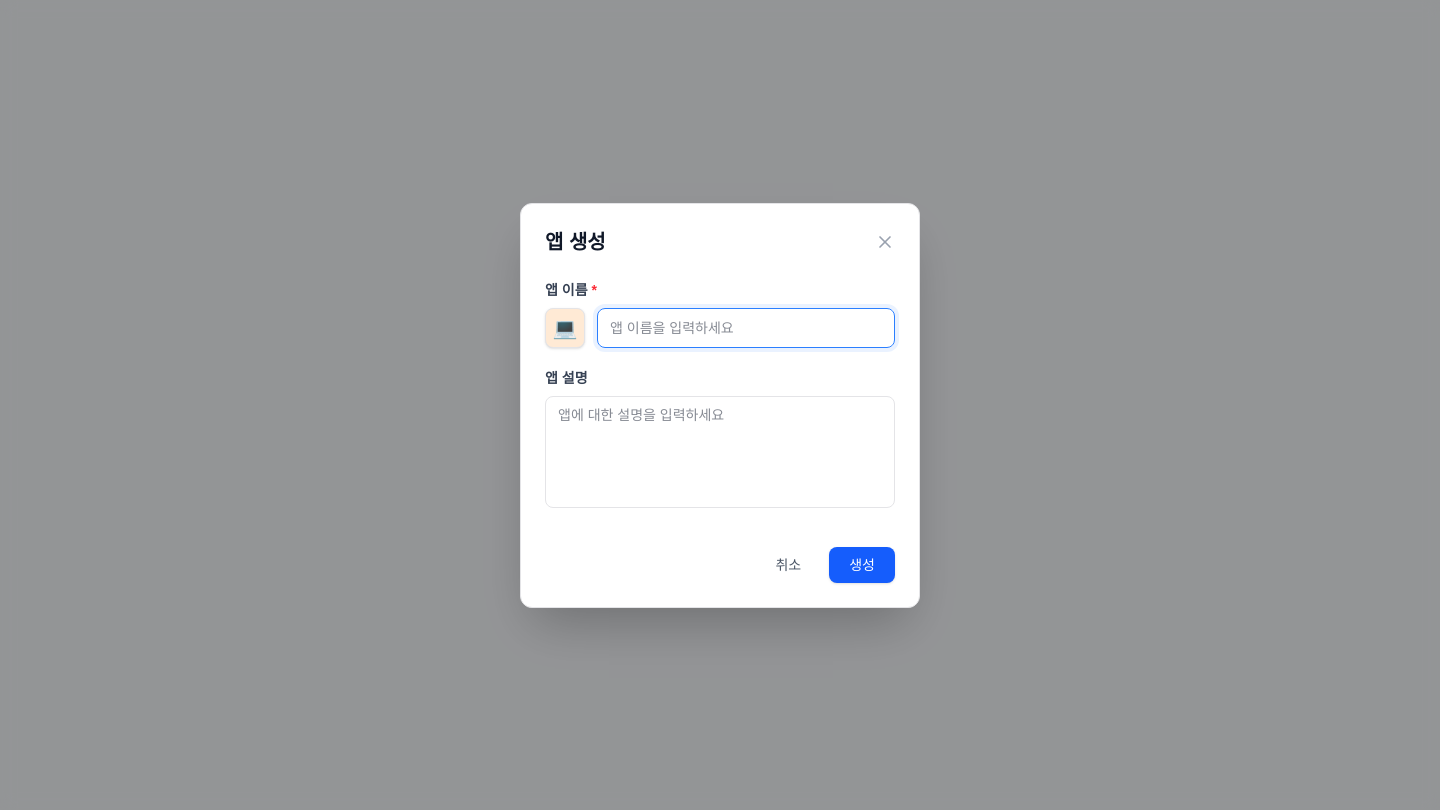
Test: CreateAppModal 권한 신청 연결 › 이미 권한 보유 409는 보유 안내를 표시한다 (ORG-TC-E012)
Step 1. Type "온보딩 봇" into the field with placeholder "앱 이름을 입력하세요" → (746, 328), box [597,308,895,348]
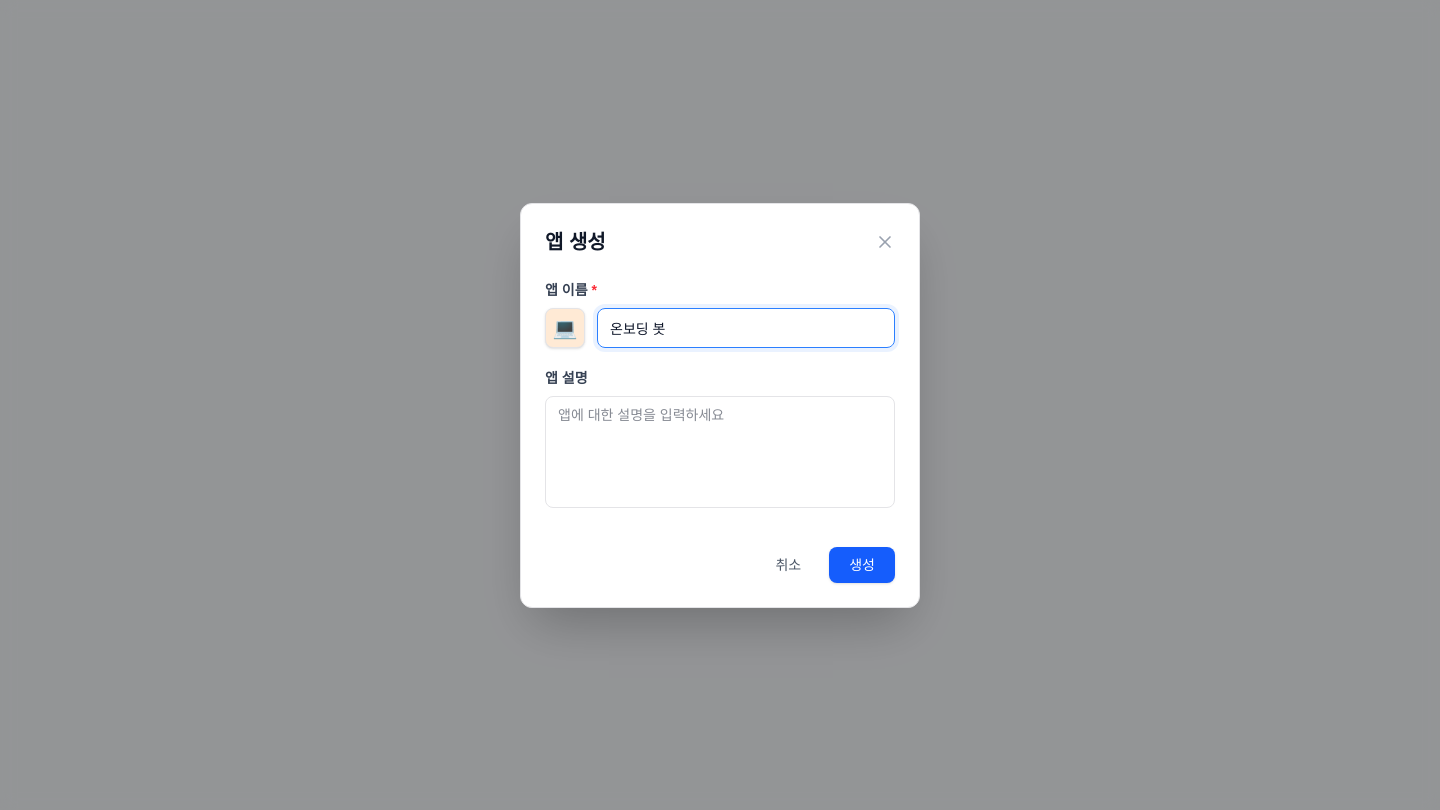
Step 2. Click the button "생성" → (862, 564), box [829,546,895,582]
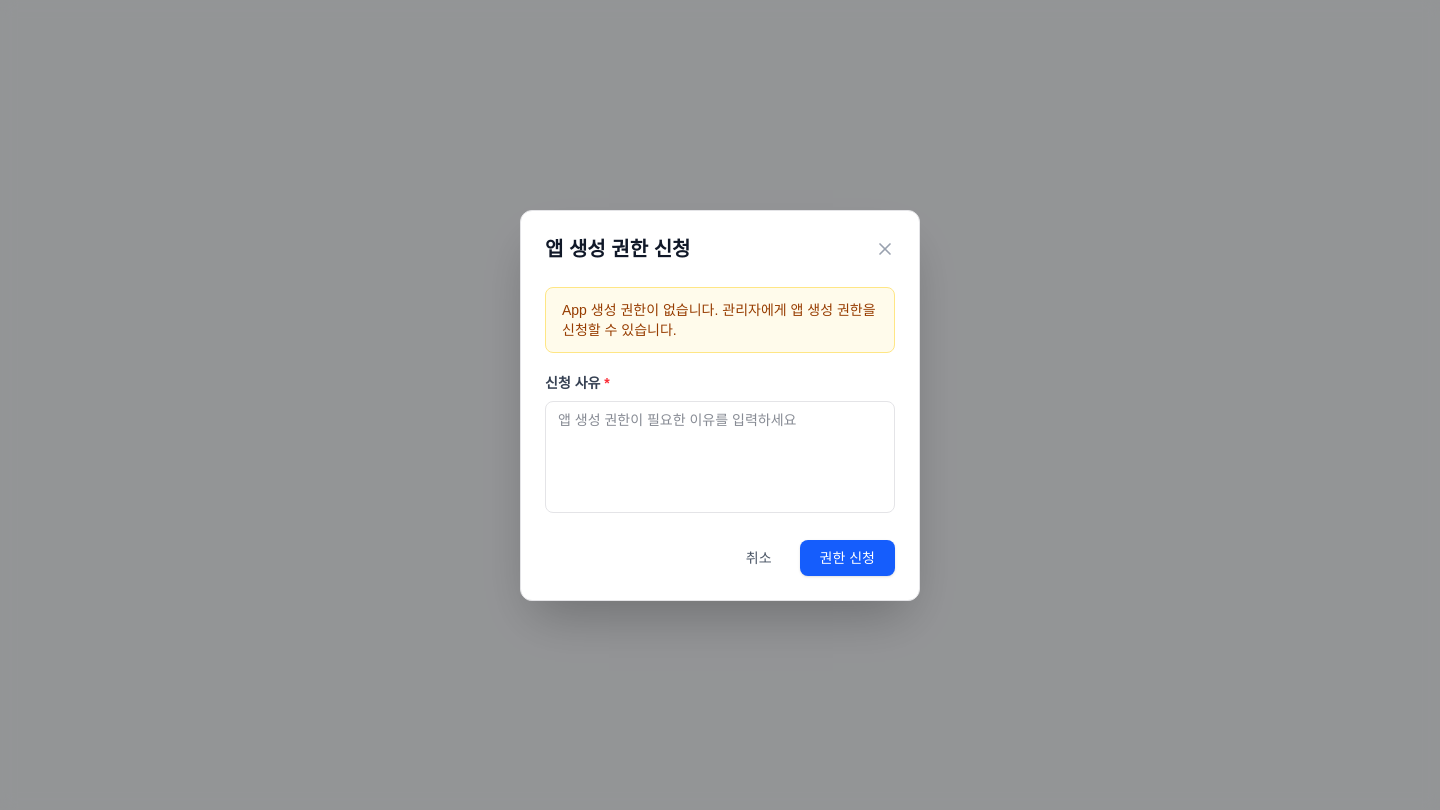
Result: the heading "앱 생성 권한 신청" is shown at [545,234,690,262]
Step 3. Type "권한이 필요합니다." into the text box labelled "신청 사유 *" → (720, 456), box [545,400,895,512]
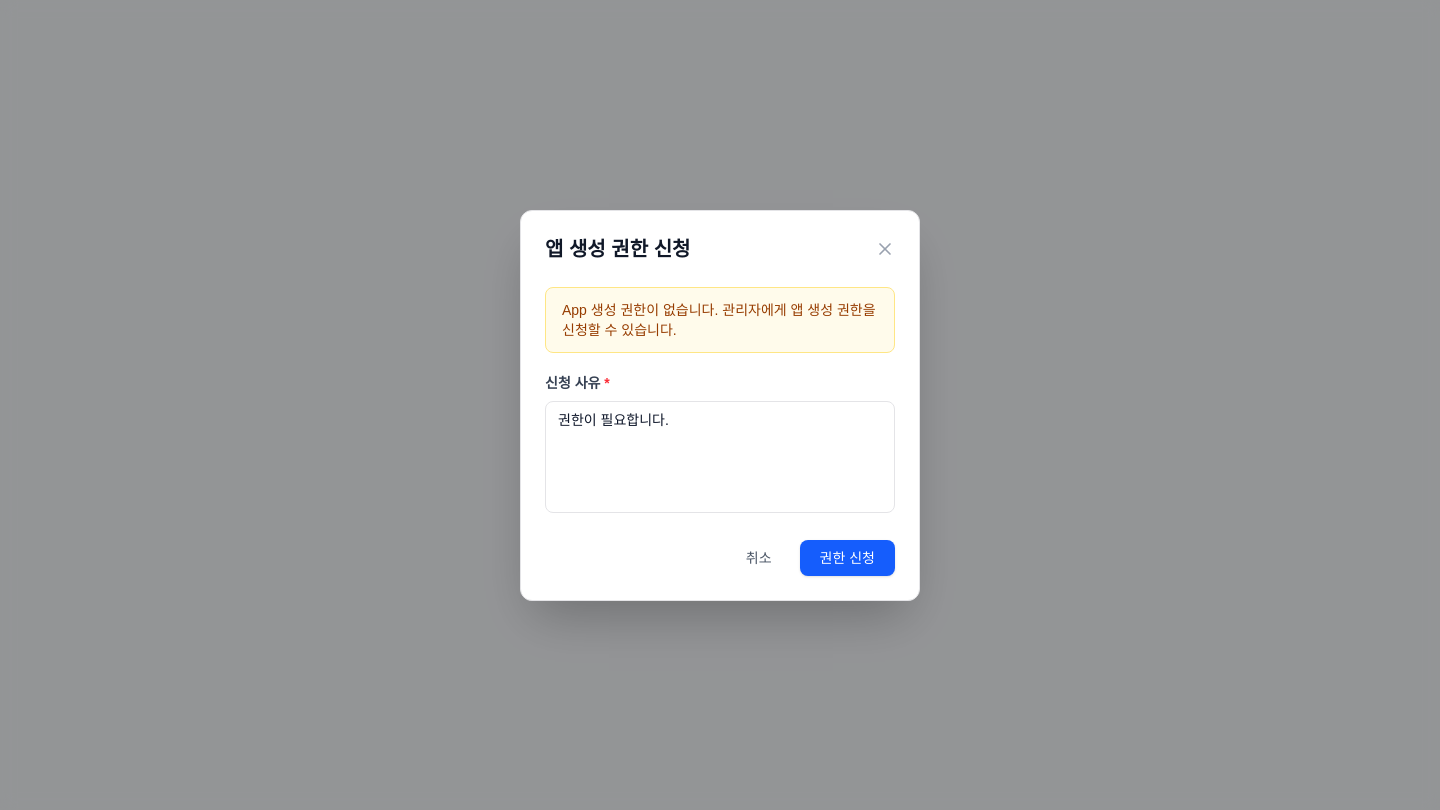
Step 4. Click the button "권한 신청" → (847, 558), box [800,540,895,576]
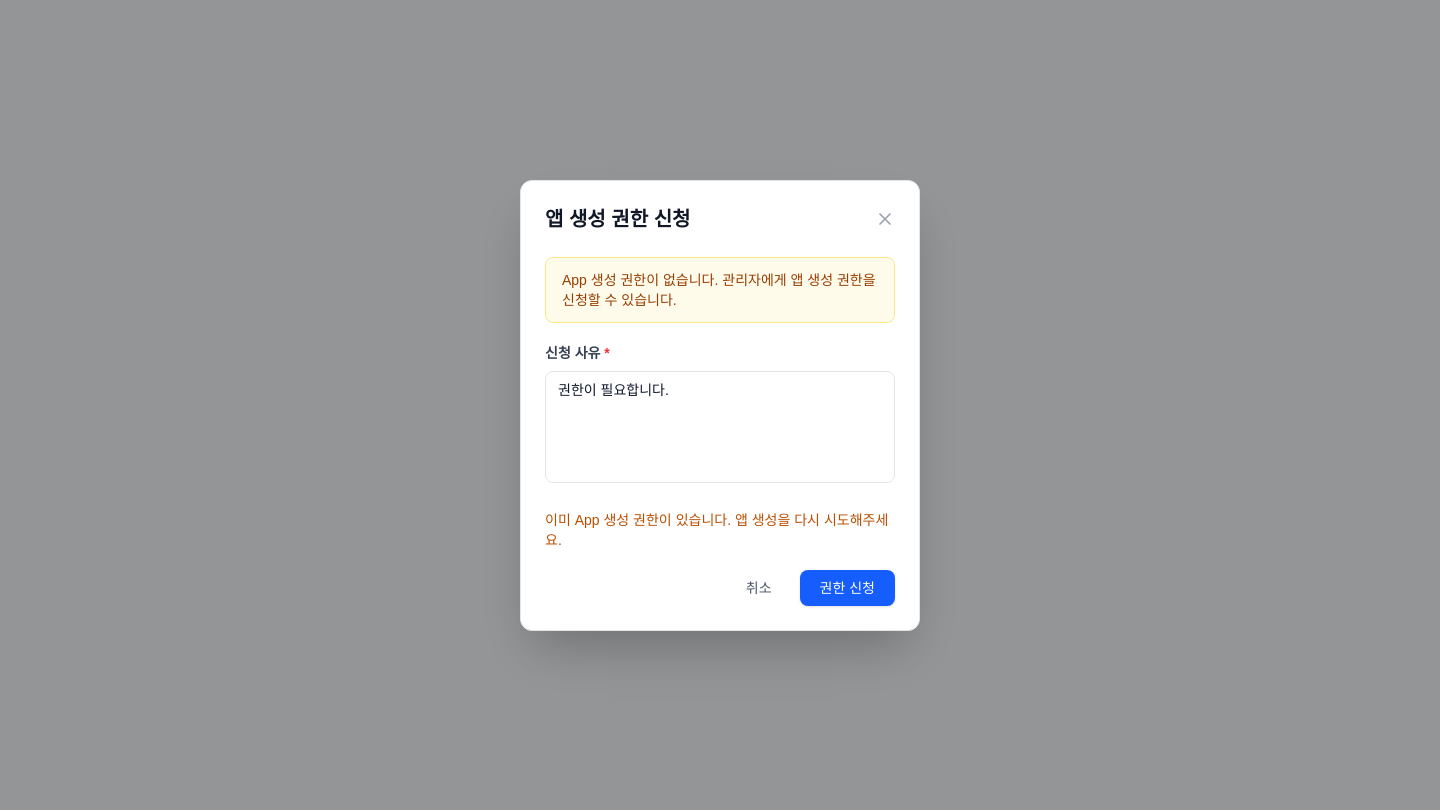
Result: the text "이미 App 생성 권한이 있습니다. 앱 생성을 다시 시도해주세요." is shown at [545,510,895,550]
